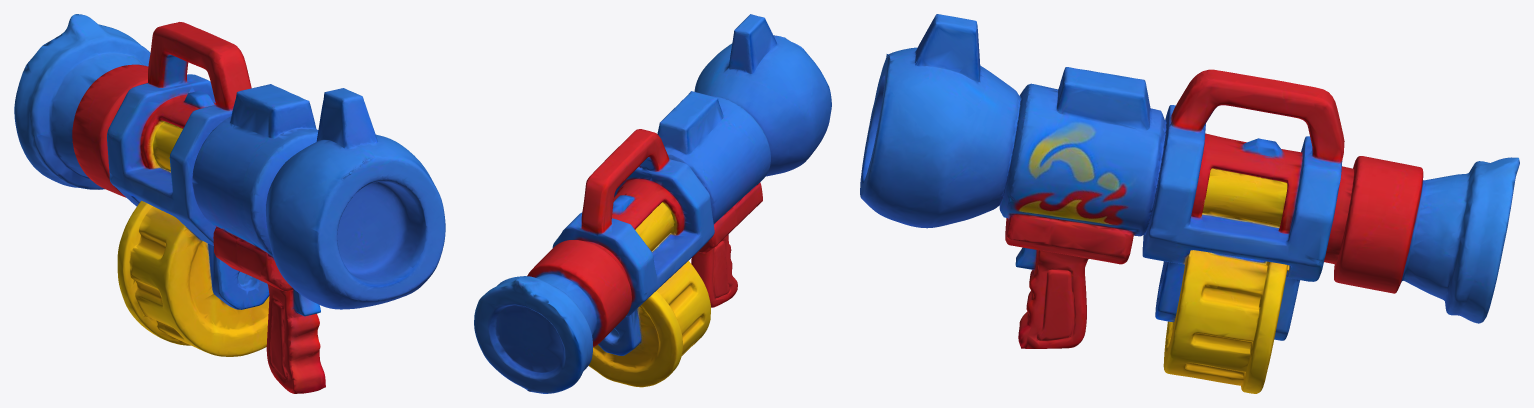
Rendered from toy_bazooka.glb.
3 views of the same model, side by side, from view 1: azimuth 30°, elevation 25°; view 2: azimuth 150°, elevation 25°; view 3: azimuth 270°, elevation 25° (orthographic). The views are drawn at different scales.
Visible parts, largest first — view 1: tripo_node_c8cc7638-e83e-413c-bb06-50c627c13717; view 2: tripo_node_c8cc7638-e83e-413c-bb06-50c627c13717; view 3: tripo_node_c8cc7638-e83e-413c-bb06-50c627c13717.
Part boxes in pixels (left/top/right/bottom): tripo_node_c8cc7638-e83e-413c-bb06-50c627c13717: left=14, top=14, right=445, bottom=393; tripo_node_c8cc7638-e83e-413c-bb06-50c627c13717: left=474, top=14, right=831, bottom=393; tripo_node_c8cc7638-e83e-413c-bb06-50c627c13717: left=860, top=14, right=1519, bottom=393.
Bounding box in the file's own units: 0.2846 × 0.5913 × 0.9803.
Materials: 1 (1 with a texture image).
